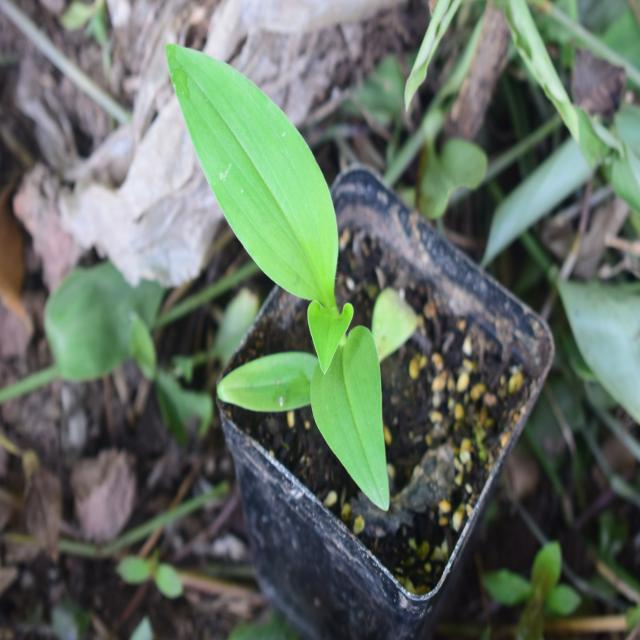Common Dayflower: (138, 33, 416, 515)
